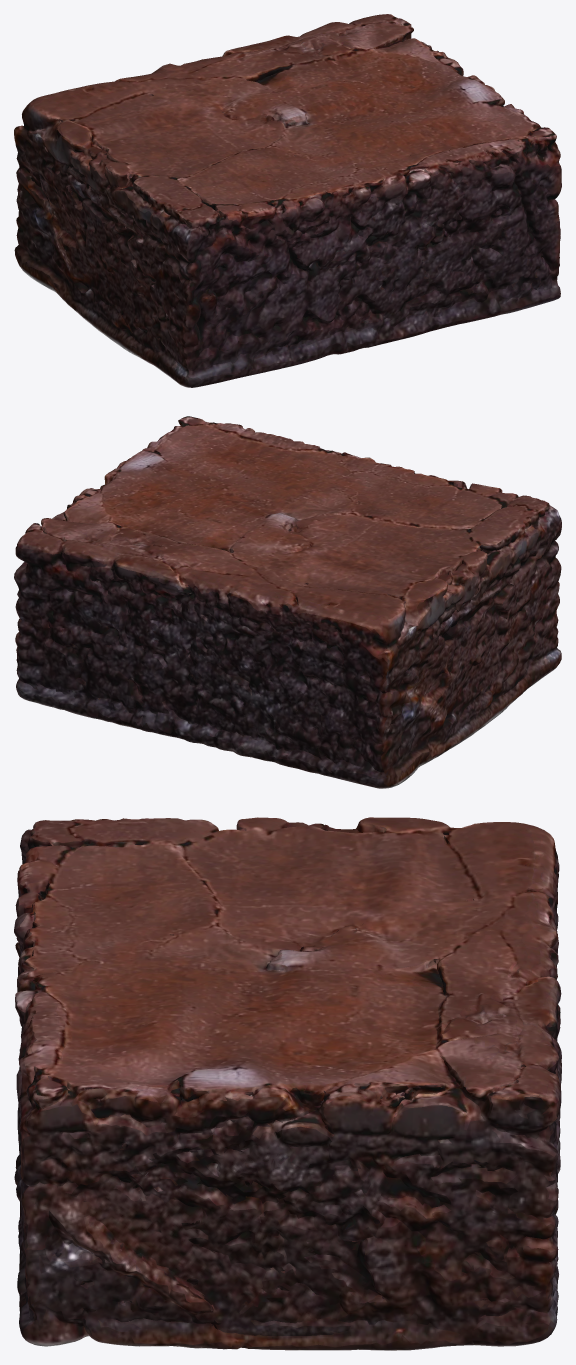
Rendered from chocolate-brownie-0.glb.
3 views of the same model, one above another, from view 1: azimuth 30°, elevation 25°; view 2: azimuth 150°, elevation 25°; view 3: azimuth 270°, elevation 25° (orthographic). The views are drawn at different scales.
Visible parts, largest first — view 1: brownie-physical-calibration-80x35x65mm; view 2: brownie-physical-calibration-80x35x65mm; view 3: brownie-physical-calibration-80x35x65mm.
Part boxes in pixels (x1,y1,x2,y2): brownie-physical-calibration-80x35x65mm: (14,14,561,387); brownie-physical-calibration-80x35x65mm: (14,416,561,788); brownie-physical-calibration-80x35x65mm: (14,817,561,1350).
Bounding box in the file's own units: 0.08 × 0.035 × 0.065.
Materials: 1 (1 with a texture image).
